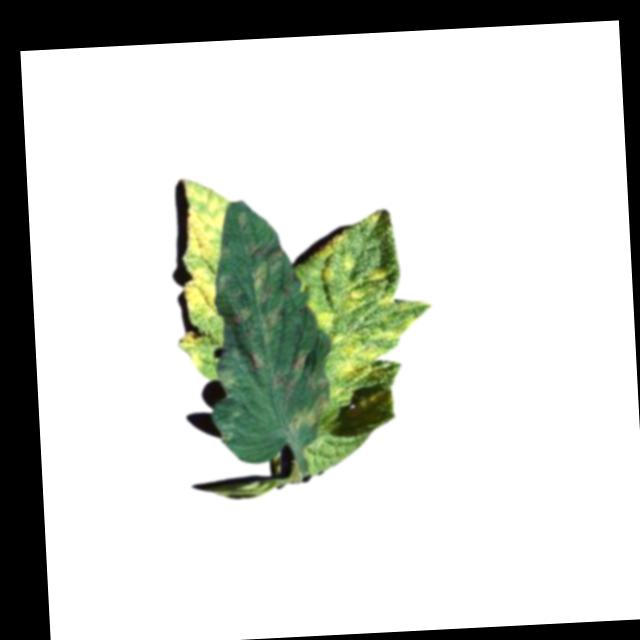Leaf_Mold: (289, 203, 437, 404), (229, 205, 330, 436), (169, 176, 237, 371)
